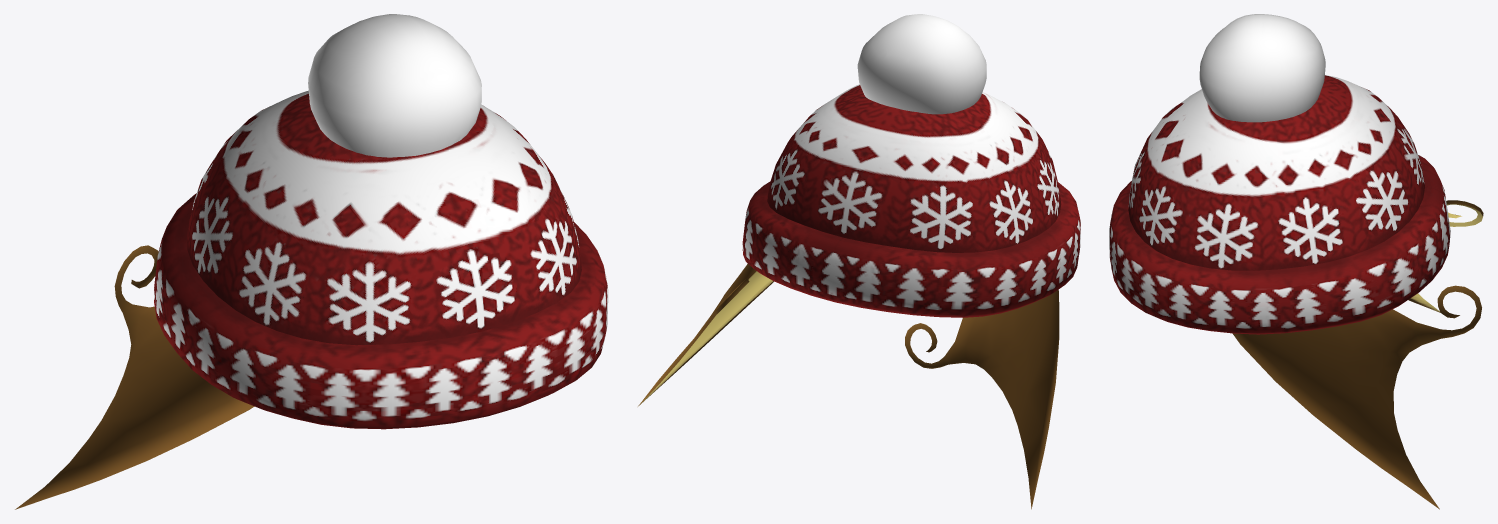
Rendered from hat_pm0026_00_raichu_winter.fbx.
The picture shows the model from 3 angles, left to right: view 1: azimuth 30°, elevation 25°; view 2: azimuth 150°, elevation 25°; view 3: azimuth 270°, elevation 25°; orthographic projection. The views are drawn at different scales.
Visible parts, largest first — view 1: hat_pm0026_00_raichu_winter; view 2: hat_pm0026_00_raichu_winter; view 3: hat_pm0026_00_raichu_winter.
Boxes of the visible parts, left/top/right/bottom form: hat_pm0026_00_raichu_winter: left=15, top=14, right=608, bottom=509; hat_pm0026_00_raichu_winter: left=638, top=14, right=1080, bottom=509; hat_pm0026_00_raichu_winter: left=1109, top=14, right=1483, bottom=509.
Bounding box in the file's own units: 0.5367 × 0.49 × 0.4226.
